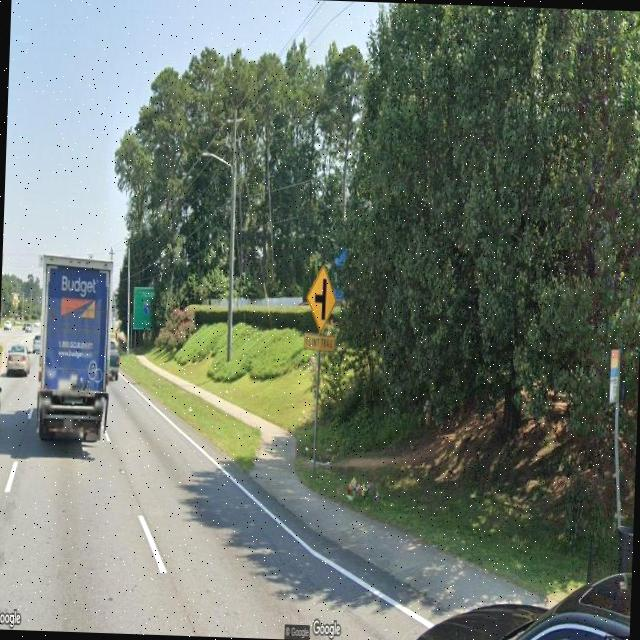trash_can: (614, 523, 633, 573)
